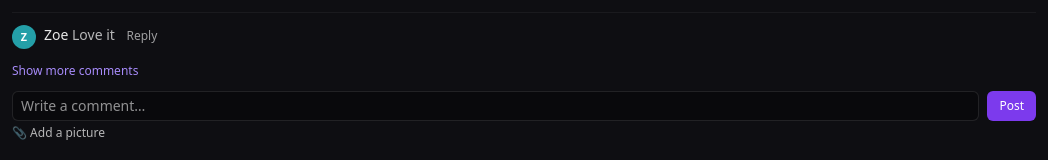
Test: PostCommentList › pages: shows more comments after the last one loaded, until there are no more
Click the button "Show more comments" at (75, 71), box [12,63,138,79]
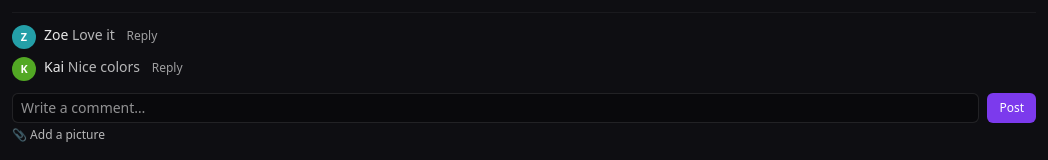
Expected: the text "Nice colors" is shown, [68,57,140,76]
Expected: the button "Show more comments" is gone
